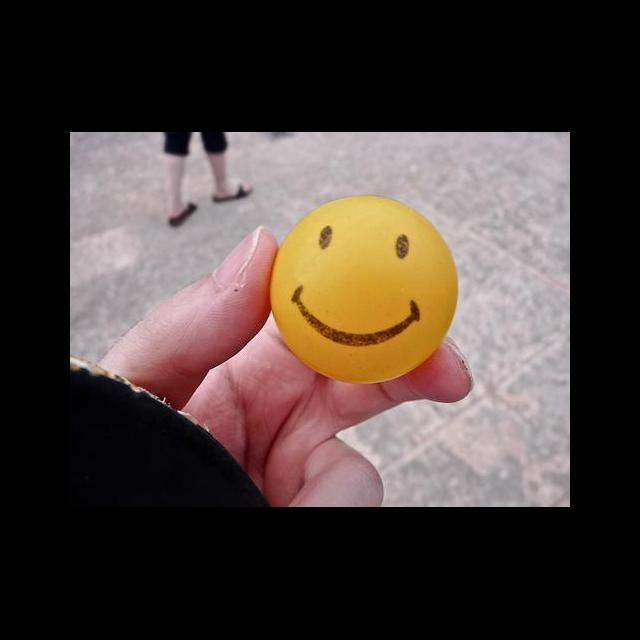ping-pong-ball: (270, 194, 458, 386)
